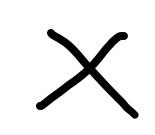mult: (36, 29, 138, 119)
